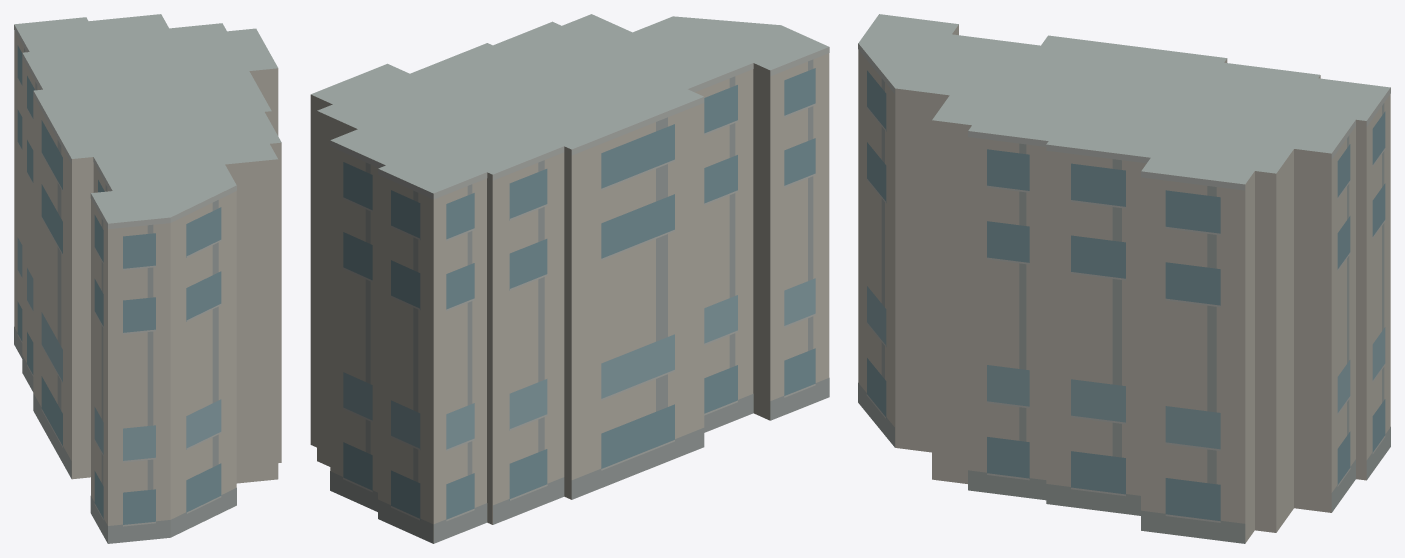
The model's file is survey-upis-32622464.glb.
3 views of the same model, side by side, from view 1: azimuth 30°, elevation 25°; view 2: azimuth 150°, elevation 25°; view 3: azimuth 270°, elevation 25° (orthographic). The views are drawn at different scales.
Visible parts, largest first — view 1: survey-upis-32622464.tmp; view 2: survey-upis-32622464.tmp; view 3: survey-upis-32622464.tmp.
Part boxes in pixels (<box>): survey-upis-32622464.tmp: <box>14,14,281,543</box>; survey-upis-32622464.tmp: <box>310,14,829,543</box>; survey-upis-32622464.tmp: <box>858,14,1390,543</box>.
Bounding box in the file's own units: 14.45 × 14.2 × 19.07.
